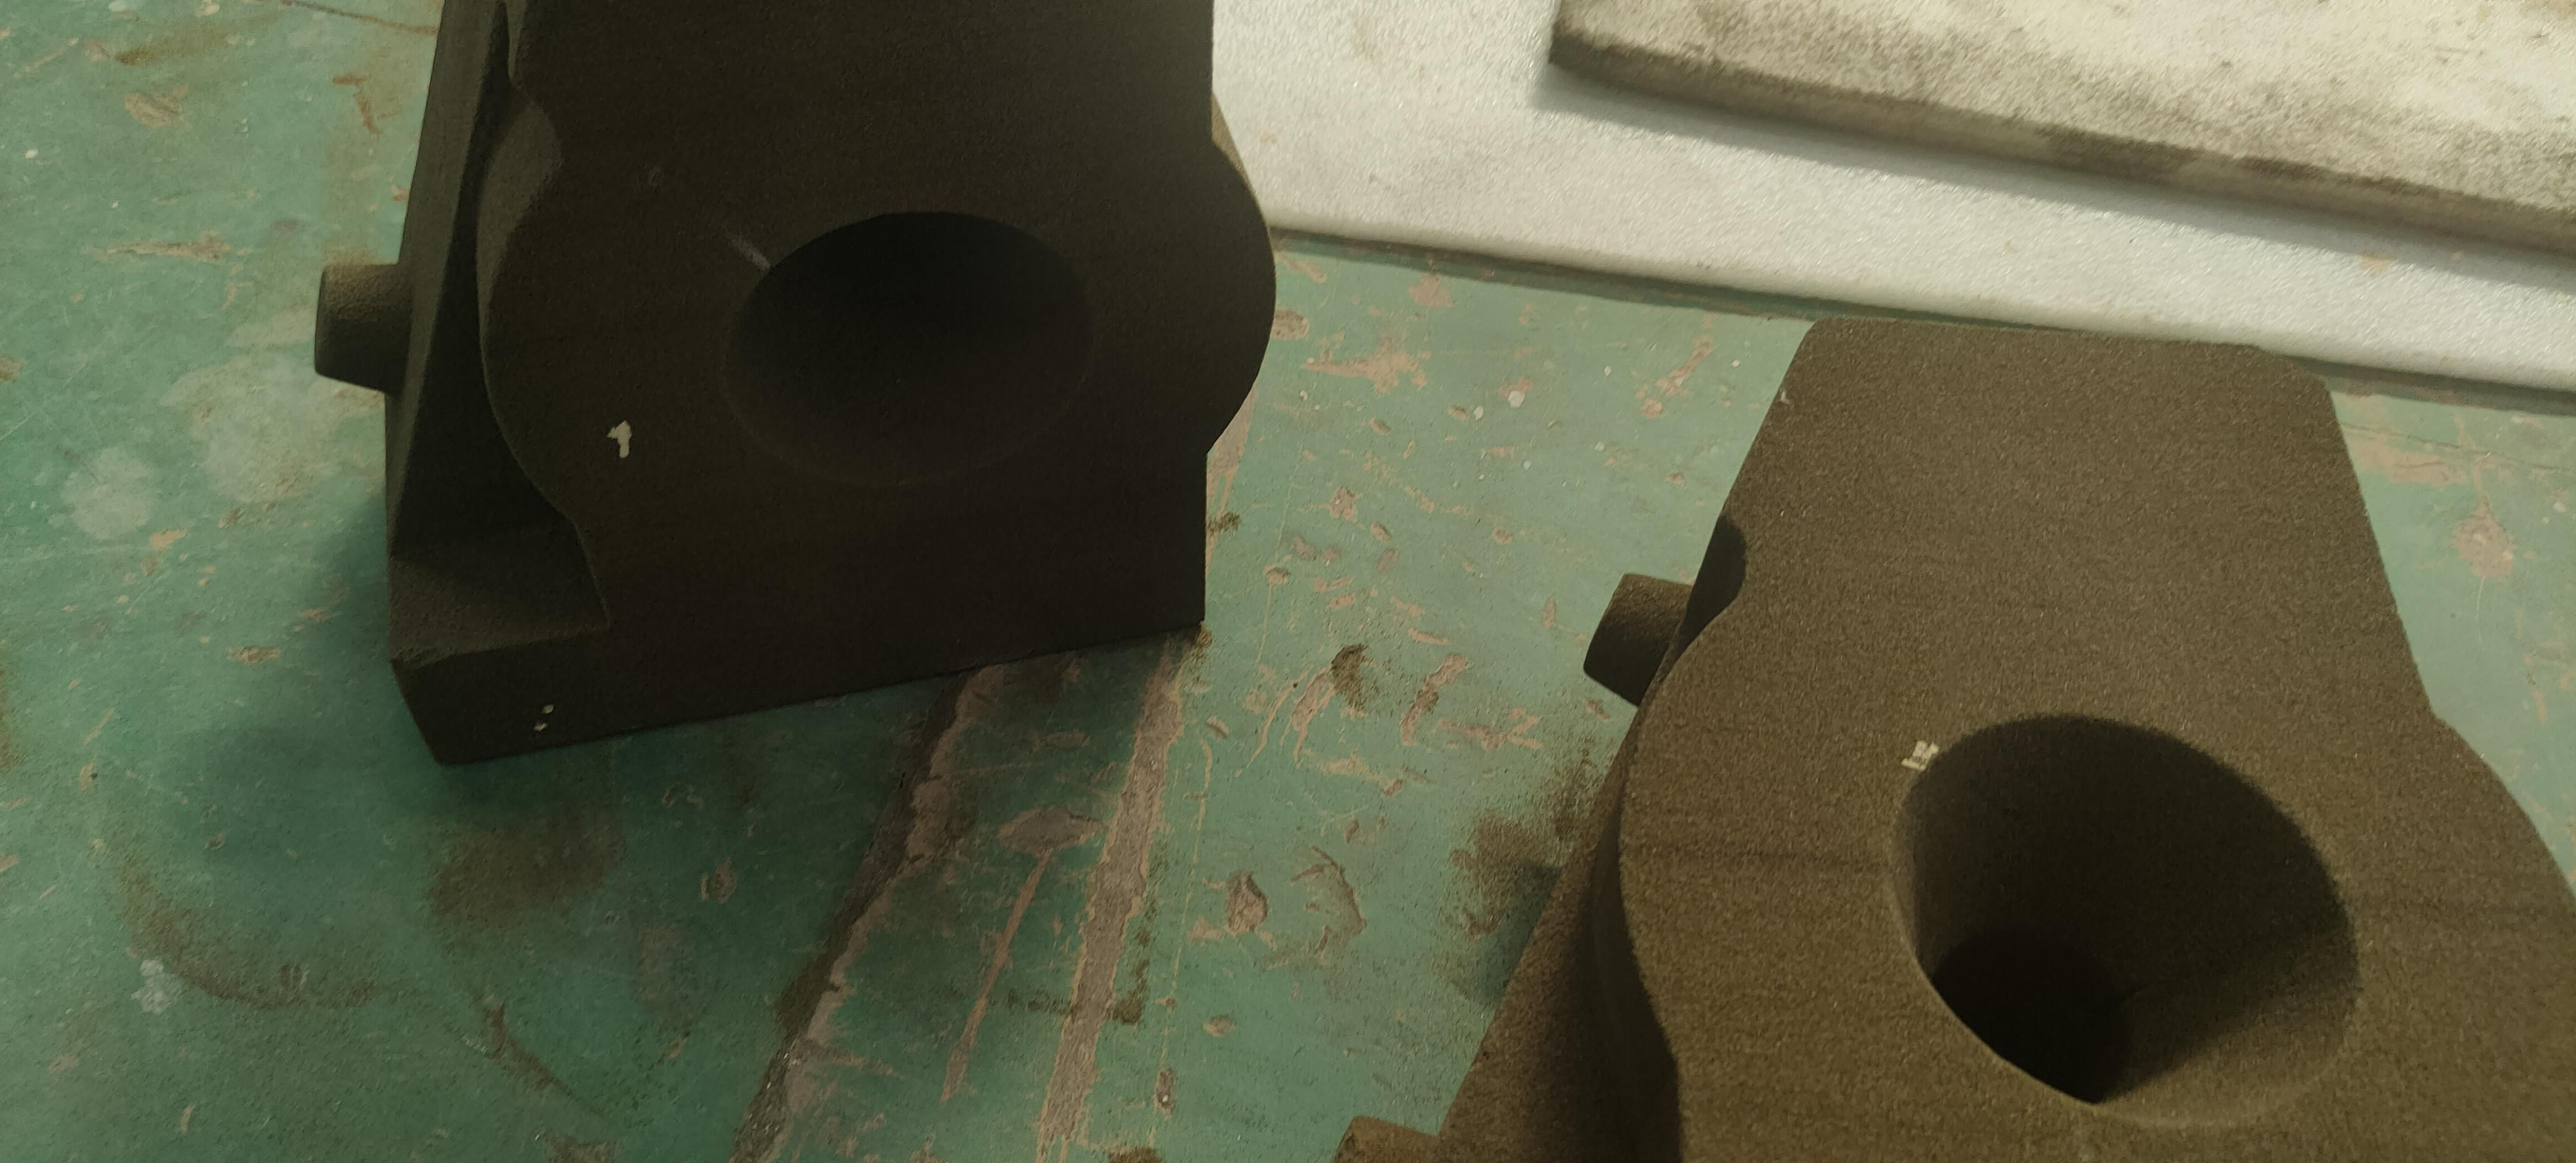pouring hole: (1883, 710, 2364, 1132), (718, 209, 1091, 488)
